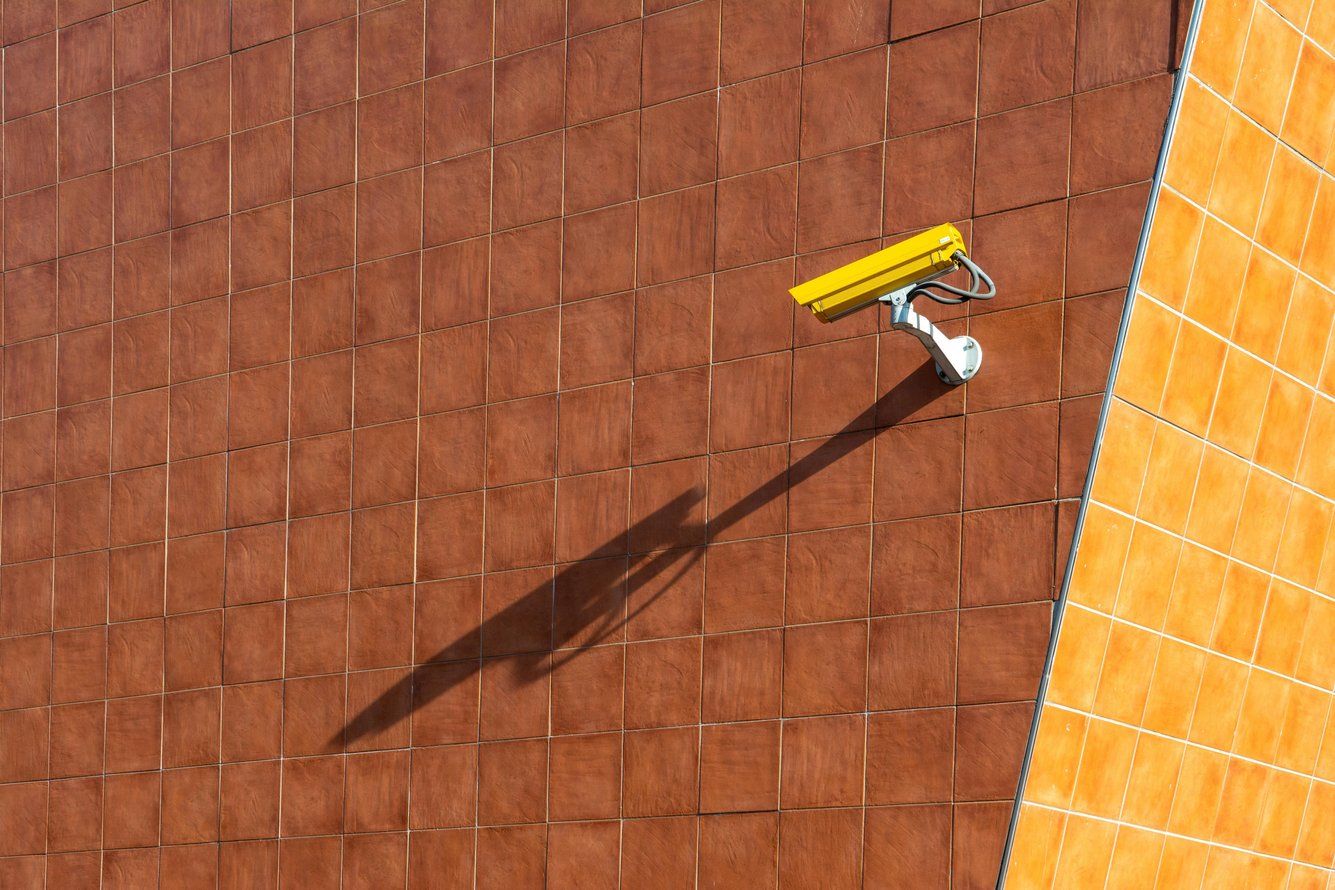camera: (694, 169, 1077, 396)
